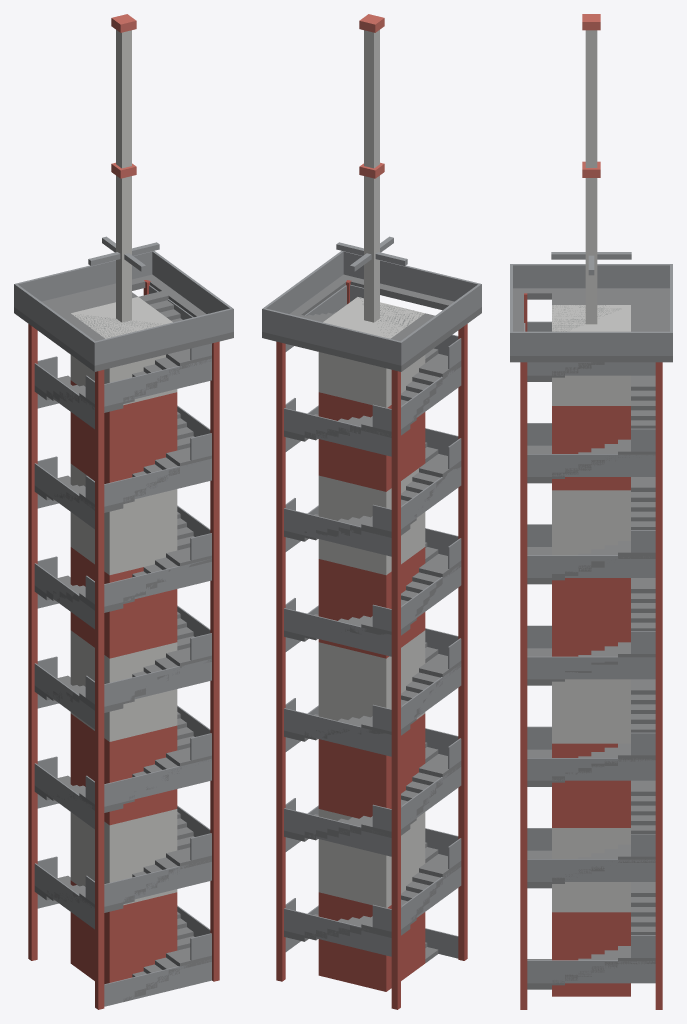
File: sniper-mast.lod1.glb
The picture shows the model from 3 angles, left to right: view 1: azimuth 30°, elevation 25°; view 2: azimuth 150°, elevation 25°; view 3: azimuth 270°, elevation 25°; orthographic projection.
Visible parts, largest first — view 1: sniper-mast; view 2: sniper-mast; view 3: sniper-mast.
Part boxes in pixels (<box>): sniper-mast: <box>14,14,233,1009</box>; sniper-mast: <box>262,14,481,1009</box>; sniper-mast: <box>510,14,672,1009</box>.
Bounding box in the file's own units: 7 × 45.6 × 7.
